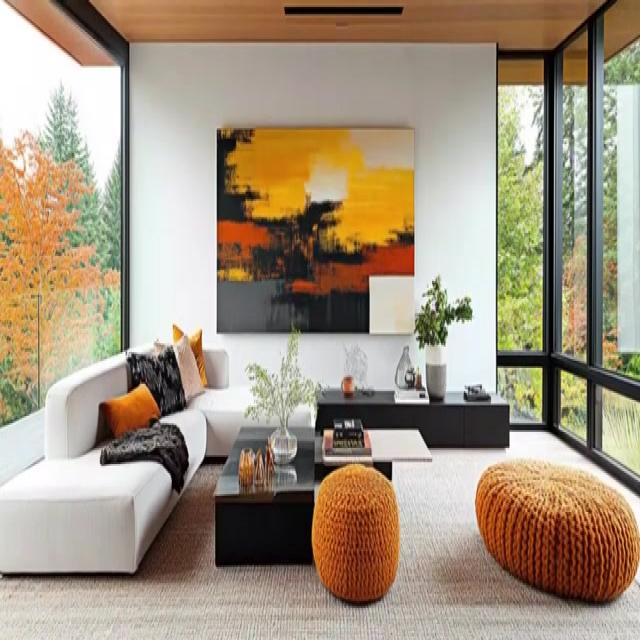obstacle: (0, 340, 314, 573), (215, 424, 315, 564), (314, 388, 509, 448)
